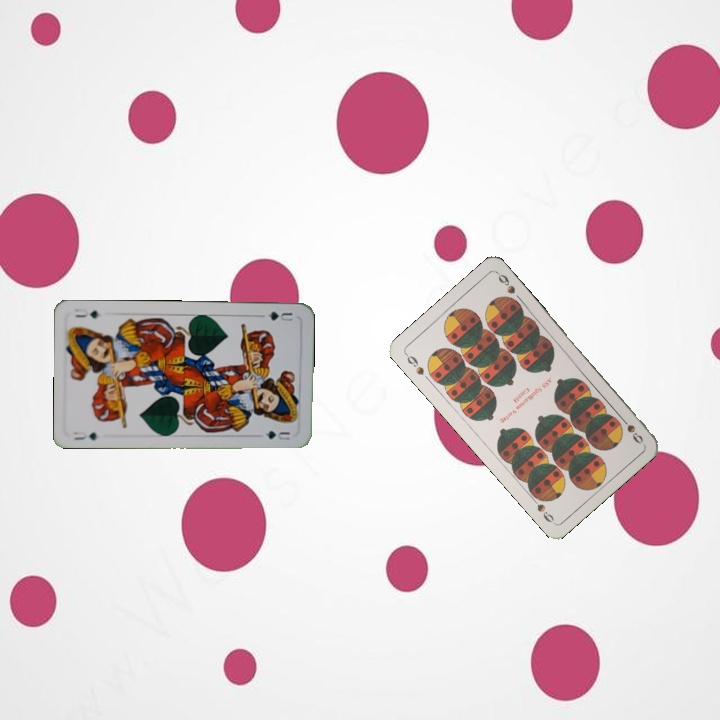GU: (257, 308, 295, 323), (69, 427, 99, 442)
S9: (616, 412, 646, 446), (401, 349, 427, 378)
